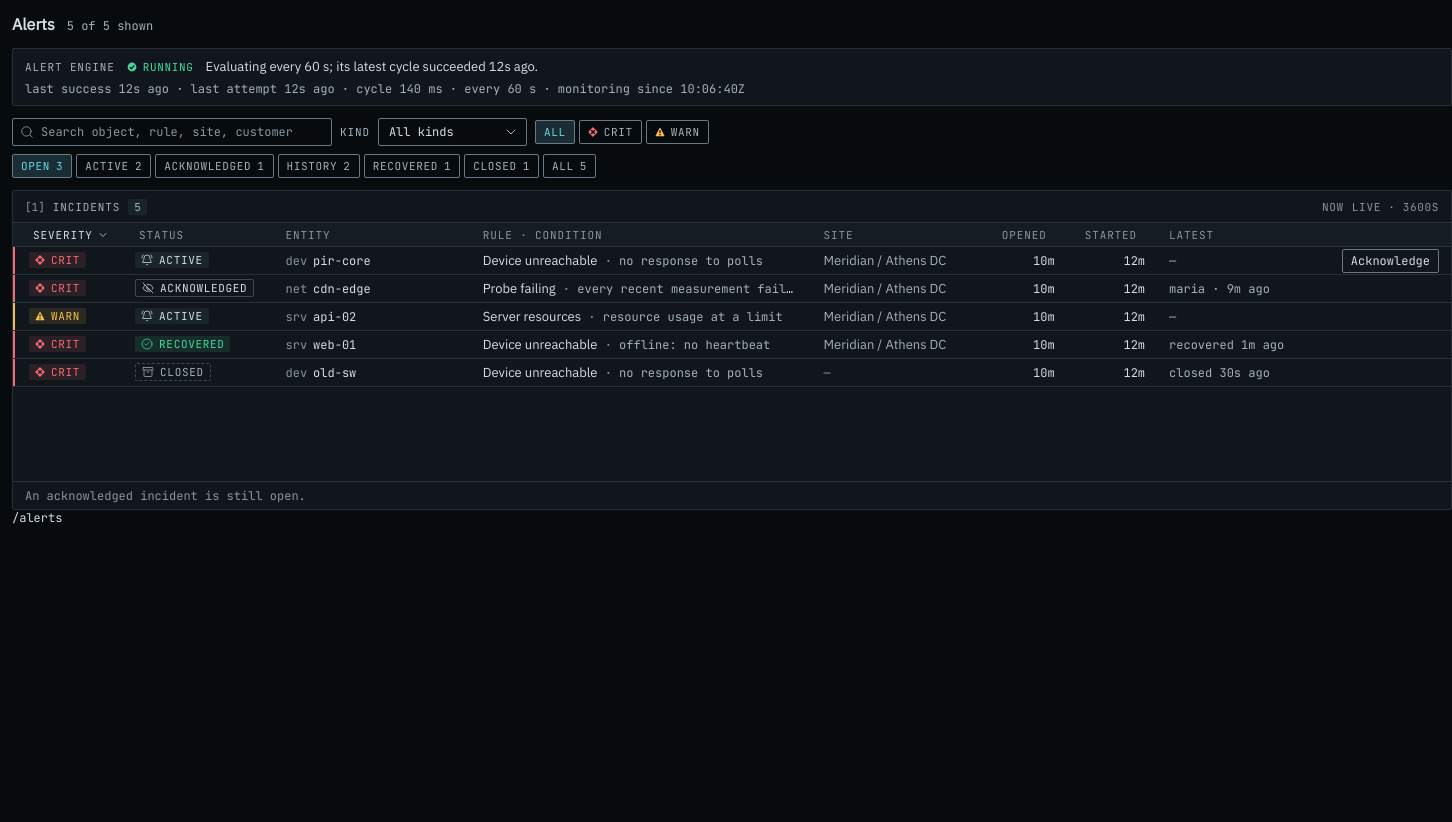
Test: acknowledging › acknowledges through the API, says so, and reads the list and the shell’s count again
Click the button "Acknowledge" at (1390, 260), box [1342,248,1439,272]
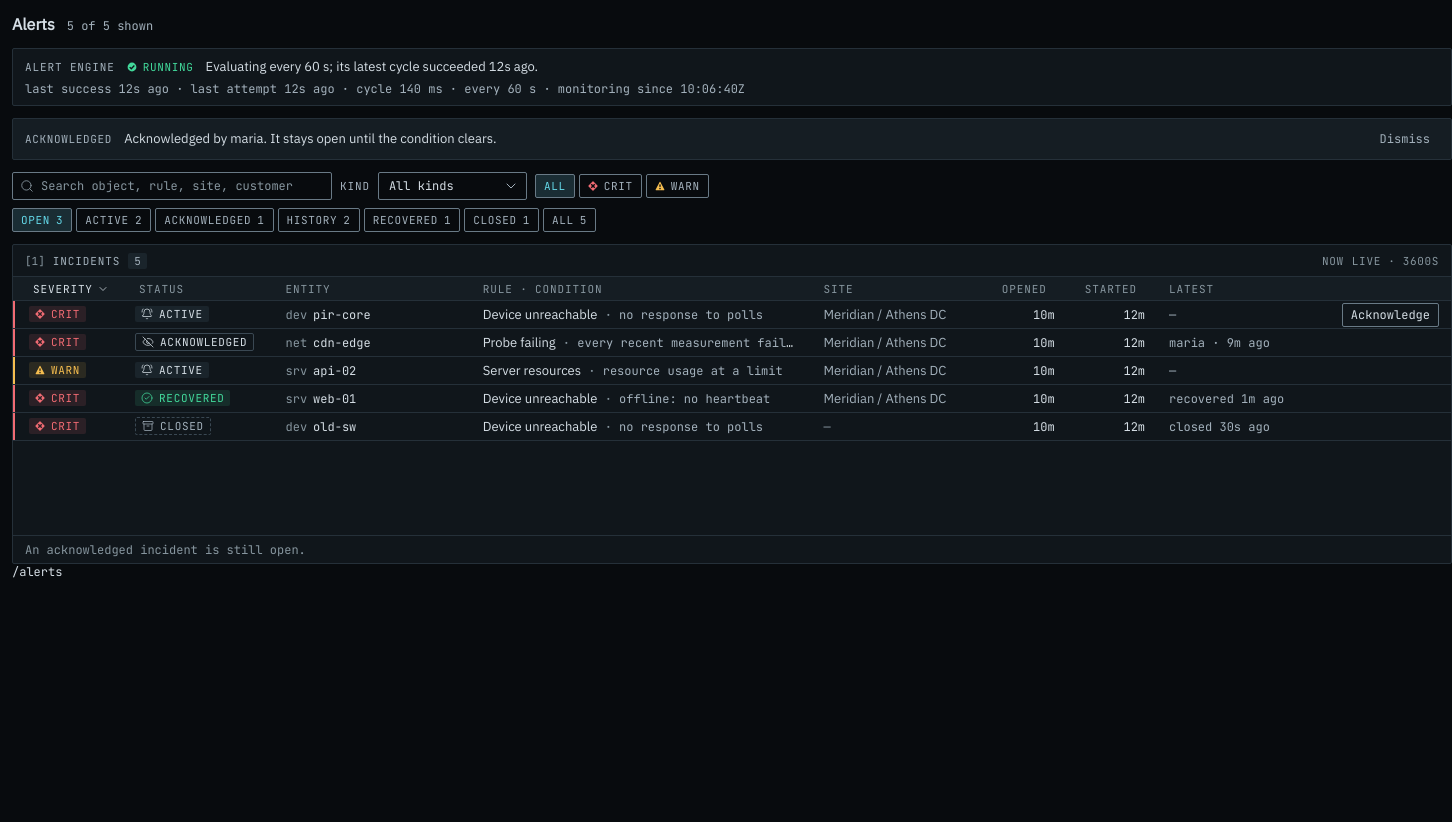
Now the message shows "ACKNOWLEDGED", box [25,132,112,146]
Now the message shows "Acknowledged by maria. It stays open until the condition clears.", box [124,130,496,147]
